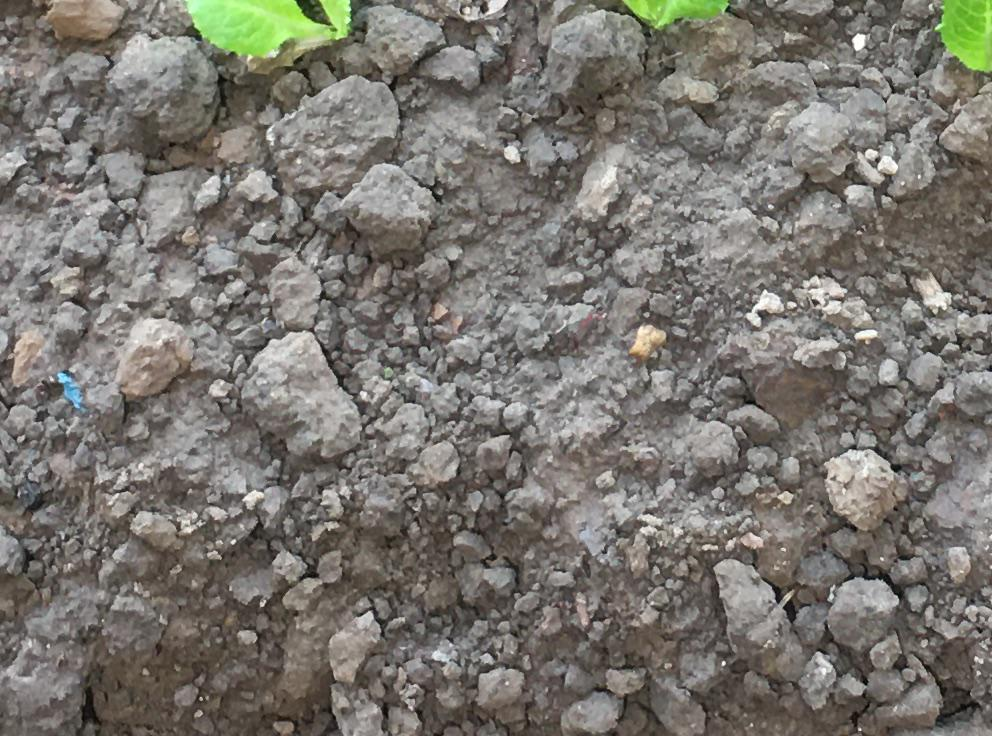block: (262, 77, 400, 194), (243, 332, 366, 456), (719, 559, 812, 682), (545, 13, 654, 103), (119, 39, 216, 137), (344, 159, 439, 252)
